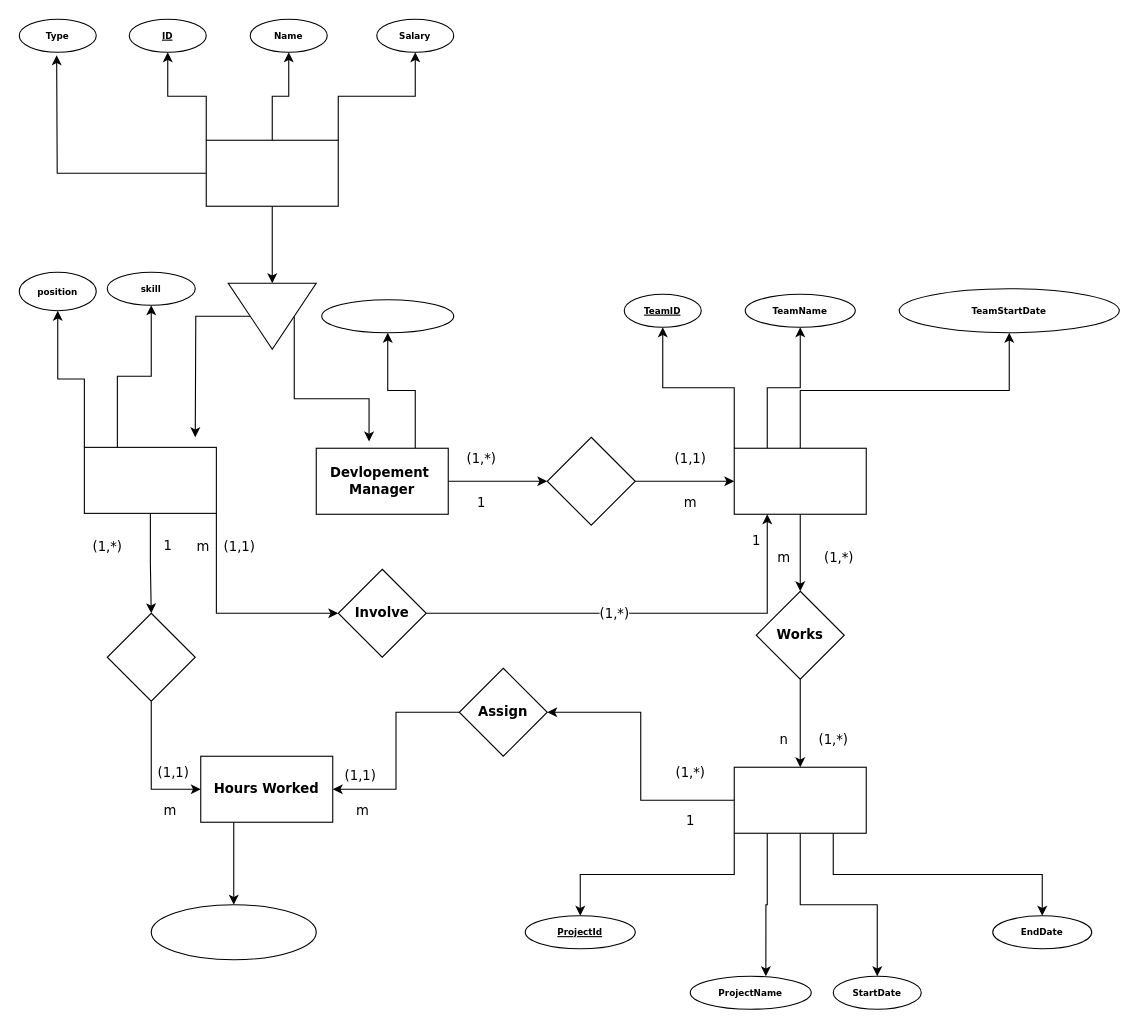
The diagram is 1139 pixels wide and 1029 high, and some of its shapes have lost their labels. The centre of each missing label's shape, as x and y in pixels:
Developer: the point at 149,479
Employee: the point at 271,172
IS A: the point at 271,315
Manages: the point at 590,480
number of hours: the point at 233,932
product type: the point at 387,316
Project: the point at 799,799
Spend: the point at 150,656
Team: the point at 799,480
